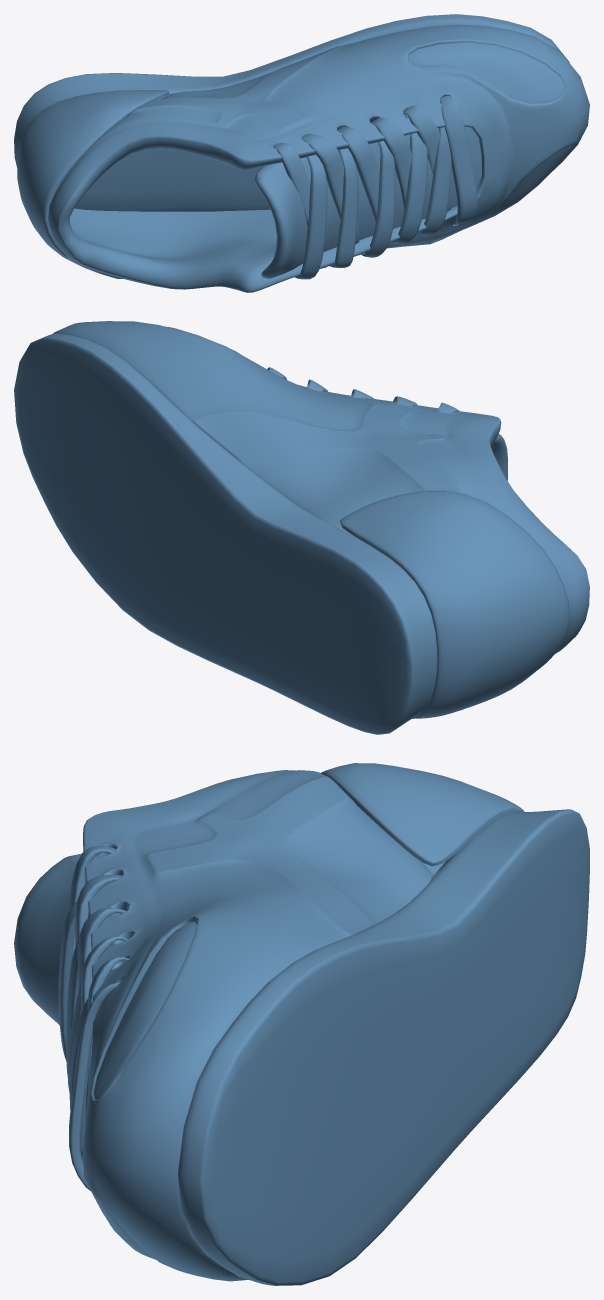
The model's file is shoe01.obj.
3 renders of one model, top to bottom at view 1: azimuth 30°, elevation 25°; view 2: azimuth 150°, elevation 25°; view 3: azimuth 270°, elevation 25°, orthographic. The views are drawn at different scales.
Parts seen in each view (by area): view 1: shoe; view 2: shoe; view 3: shoe.
Part boxes in pixels (<box>): shoe: <box>14,14,589,292</box>; shoe: <box>14,321,589,734</box>; shoe: <box>14,763,589,1285</box>.
Bounding box in the file's own units: 296 × 118 × 180.
